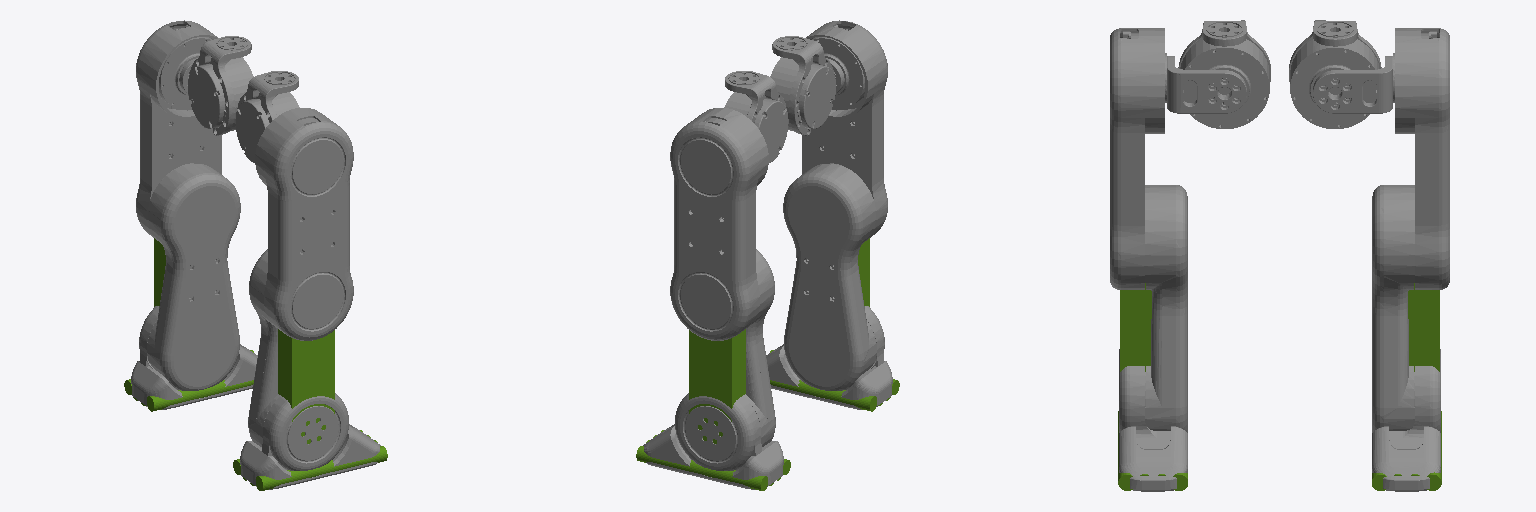
URDF robot description (nano_SDU):
<?xml version="1.0" encoding="utf-8"?>
<!-- This URDF was automatically created by SolidWorks to URDF Exporter! Originally created by Stephen Brawner (brawner@gmail.com) 
     Commit Version: 1.6.0-4-g7f85cfe  Build Version: 1.6.7995.38578
     For more information, please see http://wiki.ros.org/sw_urdf_exporter -->
<robot
  name="nano_SDU">
  <mujoco>
    <compiler meshdir="meshes/" balanceinertia="true" discardvisual="false" />
  </mujoco>
  <link
    name="base_link">
    <inertial>
      <origin
        xyz="0.00759147111974806 -0.0013875178091176 0.121198072259712"
        rpy="0 0 0" />
      <mass
        value="4.18623024" />
      <inertia
        ixx="0.03441290"
        ixy="0.00030350"
        ixz="-0.00039115"
        iyy="0.04852843"
        iyz="0.00028233"
        izz="0.03234871" />
    </inertial>
    <visual>
      <origin
        xyz="0 0 0"
        rpy="0 0 0" />
      <geometry>
        <mesh
          filename="./meshes/base_link.STL" />
      </geometry>
      <material
        name="">
        <color
          rgba="0.6 0.6 0.6 1" />
      </material>
    </visual>
    <collision>
      <origin
        xyz="0 0 0"
        rpy="0 0 0" />
      <geometry>
        <mesh
          filename="./meshes/base_link.STL" />
      </geometry>
    </collision>
  </link>
  <link
    name="right_leg_hip_yaw_link">
    <inertial>
      <origin
        xyz="-0.0112029810334063 -1.26073068986154E-05 -0.0496803709861635"
        rpy="0 0 0" />
      <mass
        value="0.46698526" />
      <inertia
        ixx="0.00038614"
        ixy="-0.00000003"
        ixz="-0.00000504"
        iyy="0.00028377"
        iyz="0.00000012"
        izz="0.00023518" />
    </inertial>
    <visual>
      <origin
        xyz="0 0 0"
        rpy="0 0 0" />
      <geometry>
        <mesh
          filename="./meshes/right_yaw_Link.STL" />
      </geometry>
      <material
        name="">
        <color
          rgba="0.6 0.6 0.6 1" />
      </material>
    </visual>
    <!-- <collision>
      <origin
        xyz="0 0 0"
        rpy="0 0 0" />
      <geometry>
        <mesh
          filename="./meshes/right_yaw_Link.STL" />
      </geometry>
    </collision> -->
  </link>
  <joint
    name="right_leg_hip_yaw_joint"
    type="revolute">
    <origin
      xyz="0.0028103 -0.047978 0.1165"
      rpy="0 0 0" />
    <parent
      link="base_link" />
    <child
      link="right_leg_hip_yaw_link" />
    <axis
      xyz="0 0 1" />
      <limit lower="-0.66" upper="0.66" effort="12" velocity="20" />
  </joint>
  <link
    name="right_leg_hip_roll_link">
    <inertial>
      <origin
        xyz="-0.00586696969608841 -0.0285890137138216 -4.46831460720887E-12"
        rpy="0 0 0" />
      <mass
        value="0.05799207" />
      <inertia
        ixx="0.00003312"
        ixy="-0.00000962"
        ixz="0.00000000"
        iyy="0.00001897"
        iyz="0.00000000"
        izz="0.00003594" />
    </inertial>
    <visual>
      <origin
        xyz="0 0 0"
        rpy="0 0 0" />
      <geometry>
        <mesh
          filename="./meshes/right_roll_Link.STL" />
      </geometry>
      <material
        name="">
        <color
          rgba="0.6 0.6 0.6 1" />
      </material>
    </visual>
    <!-- <collision>
      <origin
        xyz="0 0 0"
        rpy="0 0 0" />
      <geometry>
        <mesh
          filename="./meshes/right_roll_Link.STL" />
      </geometry>
    </collision> -->
  </link>
  <joint
    name="right_leg_hip_roll_joint"
    type="revolute">
    <origin
      xyz="0.0115 0 -0.0525"
      rpy="0 0 0" />
    <parent
      link="right_leg_hip_yaw_link" />
    <child
      link="right_leg_hip_roll_link" />
    <axis
      xyz="1 0 0" />
      <limit lower="-0.57" upper="0.57" effort="20" velocity="20" />
  </joint>
  <link
    name="right_leg_hip_pitch_link">
    <inertial>
      <origin
        xyz="8.66998954478365E-05 -0.0245252069088163 -0.0741302379267229"
        rpy="0 0 0" />
      <mass
        value="0.99471607" />
      <inertia
        ixx="0.00571142"
        ixy="0.00000057"
        ixz="-0.00000165"
        iyy="0.00596913"
        iyz="-0.00001437"
        izz="0.00057806" />
    </inertial>
    <visual>
      <origin
        xyz="0 0 0"
        rpy="0 0 0" />
      <geometry>
        <mesh
          filename="./meshes/right_hip_pitch_Link.STL" />
      </geometry>
      <material
        name="">
        <color
          rgba="0.6 0.6 0.6 1" />
      </material>
    </visual>
    <!-- <collision>
      <origin
        xyz="0 0 0"
        rpy="0 0 0" />
      <geometry>
        <mesh
          filename="./meshes/right_hip_pitch_Link.STL" />
      </geometry>
    </collision> -->
  </link>
  <joint
    name="right_leg_hip_pitch_joint"
    type="revolute">
    <origin
      xyz="-0.025 -0.05 0"
      rpy="0 0 0" />
    <parent
      link="right_leg_hip_roll_link" />
    <child
      link="right_leg_hip_pitch_link" />
    <axis
      xyz="0 1 0" />
      <limit lower="-1.57" upper="1.57" effort="20" velocity="20" />
  </joint>
  <link
    name="right_leg_knee_pitch_link">
    <inertial>
      <origin
        xyz="0.00331013516435387 -0.00696185236889806 -0.135287753281137"
        rpy="0 0 0" />
      <mass
        value="0.80917324" />
      <inertia
        ixx="0.00247043"
        ixy="0.00001064"
        ixz="0.00011731"
        iyy="0.00286612"
        iyz="-0.00021975"
        izz="0.00073383" />
    </inertial>
    <visual>
      <origin
        xyz="0 0 0"
        rpy="0 0 0" />
      <geometry>
        <mesh
          filename="./meshes/right_knee_Link.STL" />
      </geometry>
      <material
        name="">
        <color
          rgba="0.6 0.6 0.6 1" />
      </material>
    </visual>
    <collision>
			<origin xyz="0 -0.016 -0.08" rpy="0 0 0" />
			<geometry>
				<box size="0.05 0.05 0.18" />
			</geometry>
		</collision>
    <visual>
      <origin xyz="0 -0.016 -0.08" rpy="0 0 0" />
      <geometry>
        <box size="0.05 0.05 0.18" />
      </geometry>
      <material name="">
        <color rgba="0.4 0.6 0.15 1" />
      </material>
    </visual>
  </link>
  <joint
    name="right_leg_knee_pitch_joint"
    type="revolute">
    <origin
      xyz="0 0 -0.15"
      rpy="0 0 0" />
    <parent
      link="right_leg_hip_pitch_link" />
    <child
      link="right_leg_knee_pitch_link" />
    <axis
      xyz="0 1 0" />
      <limit lower="-2.57" upper="2.57" effort="20" velocity="20" />
  </joint>
  <link
    name="right_leg_ankle_pitch_link">
    <inertial>
      <origin
        xyz="0.0136151133931523 0.0137831475450504 -0.0329418942953968"
        rpy="0 0 0" />
      <mass
        value="0.15400000" />
      <inertia
        ixx="0.00012169"
        ixy="-0.00001236"
        ixz="0.00001729"
        iyy="0.00033966"
        iyz="0.00002400"
        izz="0.00031451" />
    </inertial>
    <visual>
      <origin
        xyz="0 0 0"
        rpy="0 0 0" />
      <geometry>
        <mesh
          filename="./meshes/right_leg_pitch_Link.STL" />
      </geometry>
      <material
        name="">
        <color
          rgba="0.6 0.6 0.6 1" />
      </material>
    </visual>
    <collision>
			<origin xyz="0.0135 0.042 -0.048" rpy="0 -1.5708 0" />
			<geometry>
				<cylinder radius="0.008" length="0.145" />
			</geometry>
		</collision>
    <visual>
      <origin xyz="0.0135 0.042 -0.048" rpy="0 -1.5708 0" />
      <geometry>
        <cylinder radius="0.008" length="0.145" />
      </geometry>
      <material name="">
        <color rgba="0.4 0.6 0.15 1" />
      </material>
    </visual>
    <collision>
			<origin xyz="0.0135 0.027 -0.048" rpy="0 -1.5708 0" />
			<geometry>
				<cylinder radius="0.008" length="0.145" />
			</geometry>
		</collision>
    <visual>
      <origin xyz="0.0135 0.027 -0.048" rpy="0 -1.5708 0" />
      <geometry>
        <cylinder radius="0.008" length="0.145" />
      </geometry>
      <material name="">
        <color rgba="0.4 0.6 0.15 1" />
      </material>
    </visual>
    <collision>
			<origin xyz="0.0135 0.012 -0.048" rpy="0 -1.5708 0" />
			<geometry>
				<cylinder radius="0.008" length="0.145" />
			</geometry>
		</collision>
    <visual>
      <origin xyz="0.0135 0.012 -0.048" rpy="0 -1.5708 0" />
      <geometry>
        <cylinder radius="0.008" length="0.145" />
      </geometry>
      <material name="">
        <color rgba="0.4 0.6 0.15 1" />
      </material>
    </visual>
    <collision>
			<origin xyz="0.0135 -0.003 -0.048" rpy="0 -1.5708 0" />
			<geometry>
				<cylinder radius="0.008" length="0.145" />
			</geometry>
		</collision>
    <visual>
      <origin xyz="0.0135 -0.003 -0.048" rpy="0 -1.5708 0" />
      <geometry>
        <cylinder radius="0.008" length="0.145" />
      </geometry>
      <material name="">
        <color rgba="0.4 0.6 0.15 1" />
      </material>
    </visual>
  </link>
  <joint
    name="right_leg_ankle_pitch_joint"
    type="revolute">
    <origin
      xyz="0 -0.0315 -0.15"
      rpy="0 0 0" />
    <parent
      link="right_leg_knee_pitch_link" />
    <child
      link="right_leg_ankle_pitch_link" />
    <axis
      xyz="0 1 0" />
      <limit lower="-0.8" upper="0.8" effort="20" velocity="20" />
  </joint>
  <link
    name="left_leg_hip_yaw_link">
    <inertial>
      <origin
        xyz="-0.0117186755301163 9.12231033247529E-06 -0.0469314362099253"
        rpy="0 0 0" />
      <mass
        value="0.46698513" />
      <inertia
        ixx="0.00038614"
        ixy="0.00000003"
        ixz="-0.00000504"
        iyy="0.00028377"
        iyz="-0.00000012"
        izz="0.00023518" />
    </inertial>
    <visual>
      <origin
        xyz="0 0 0"
        rpy="0 0 0" />
      <geometry>
        <mesh
          filename="./meshes/left_yaw_Link.STL" />
      </geometry>
      <material
        name="">
        <color
          rgba="0.6 0.6 0.6 1" />
      </material>
    </visual>
  </link>
  <joint
    name="left_leg_hip_yaw_joint"
    type="revolute">
    <origin
      xyz="0.0028103 0.048022 0.1165"
      rpy="0 0 0" />
    <parent
      link="base_link" />
    <child
      link="left_leg_hip_yaw_link" />
    <axis
      xyz="0 0 1" />
      <limit lower="-0.66" upper="0.66" effort="12" velocity="20" />
  </joint>
  <link
    name="left_leg_hip_roll_link">
    <inertial>
      <origin
        xyz="-0.00586696969608838 0.0285890137138216 8.95010454637912E-12"
        rpy="0 0 0" />
      <mass
        value="0.05799207" />
      <inertia
        ixx="0.00003312"
        ixy="0.00000962"
        ixz="0.00000000"
        iyy="0.00001897"
        iyz="0.00000000"
        izz="0.00003594" />
    </inertial>
    <visual>
      <origin
        xyz="0 0 0"
        rpy="0 0 0" />
      <geometry>
        <mesh
          filename="./meshes/left_roll_Link.STL" />
      </geometry>
      <material
        name="">
        <color
          rgba="0.6 0.6 0.6 1" />
      </material>
    </visual>

  </link>
  <joint
    name="left_leg_hip_roll_joint"
    type="revolute">
    <origin
      xyz="0.0115 0 -0.0525"
      rpy="0 0 0" />
    <parent
      link="left_leg_hip_yaw_link" />
    <child
      link="left_leg_hip_roll_link" />
    <axis
      xyz="1 0 0" />
      <limit lower="-0.57" upper="0.57" effort="20" velocity="20" />
  </joint>
  <link
    name="left_leg_hip_pitch_link">
    <inertial>
      <origin
        xyz="0.000157258164474136 0.0265118175288018 -0.0733954872792109"
        rpy="0 0 0" />
      <mass
        value="0.99471607" />
      <inertia
        ixx="0.00571142"
        ixy="-0.00000057"
        ixz="-0.00000165"
        iyy="0.00596913"
        iyz="0.00001437"
        izz="0.00057806" />
    </inertial>
    <visual>
      <origin
        xyz="0 0 0"
        rpy="0 0 0" />
      <geometry>
        <mesh
          filename="./meshes/left_hip_pitch_Link.STL" />
      </geometry>
      <material
        name="">
        <color
          rgba="0.6 0.6 0.6 1" />
      </material>
    </visual>

  </link>
  <joint
    name="left_leg_hip_pitch_joint"
    type="revolute">
    <origin
      xyz="-0.025 0.05 0"
      rpy="0 0 0" />
    <parent
      link="left_leg_hip_roll_link" />
    <child
      link="left_leg_hip_pitch_link" />
    <axis
      xyz="0 1 0" />
      <limit lower="-1.57" upper="1.57" effort="20" velocity="20" />
  </joint>
  <link
    name="left_leg_knee_pitch_link">
    <inertial>
      <origin
        xyz="0.00331013516435387 0.00696185236889806 -0.135287753281137"
        rpy="0 0 0" />
      <mass
        value="0.80917324" />
      <inertia
        ixx="0.00247043"
        ixy="-0.00001064"
        ixz="0.00011731"
        iyy="0.00286612"
        iyz="0.00021975"
        izz="0.00073383" />
    </inertial>
    <visual>
      <origin
        xyz="0 0 0"
        rpy="0 0 0" />
      <geometry>
        <mesh
          filename="./meshes/left_knee_Link.STL" />
      </geometry>
      <material
        name="">
        <color
          rgba="0.6 0.6 0.6 1" />
      </material>
    </visual>
    <collision>
			<origin xyz="0 0.016 -0.08" rpy="0 0 0" />
			<geometry>
				<box size="0.05 0.05 0.18" />
			</geometry>
		</collision>
    <visual>
      <origin xyz="0 0.016 -0.08" rpy="0 0 0" />
      <geometry>
        <box size="0.05 0.05 0.18" />
      </geometry>
      <material name="">
        <color rgba="0.4 0.6 0.15 1" />
      </material>
    </visual>
  </link>
  <joint
    name="left_leg_knee_pitch_joint"
    type="revolute">
    <origin
      xyz="0 0 -0.15"
      rpy="0 0 0" />
    <parent
      link="left_leg_hip_pitch_link" />
    <child
      link="left_leg_knee_pitch_link" />
    <axis
      xyz="0 1 0" />
      <limit lower="-2.57" upper="2.57" effort="20" velocity="20" />
  </joint>
  <link
    name="left_leg_ankle_pitch_link">
    <inertial>
      <origin
        xyz="0.0136150143330126 -0.0137831781527228 -0.032941866975697"
        rpy="0 0 0" />
      <mass
        value="0.15400000" />
      <inertia
        ixx="0.00012169"
        ixy="0.00001236"
        ixz="0.00001729"
        iyy="0.00033966"
        iyz="-0.00002400"
        izz="0.00031451" />
    </inertial>
    <visual>
      <origin
        xyz="0 0 0"
        rpy="0 0 0" />
      <geometry>
        <mesh
          filename="./meshes/left_leg_pitch_Link.STL" />
      </geometry>
      <material
        name="">
        <color
          rgba="0.6 0.6 0.6 1" />
      </material>
    </visual>
    <collision>
			<origin xyz="0.0135 -0.042 -0.048" rpy="0 -1.5708 0" />
			<geometry>
				<cylinder radius="0.008" length="0.145" />
			</geometry>
		</collision>
    <visual>
      <origin xyz="0.0135 -0.042 -0.048" rpy="0 -1.5708 0" />
      <geometry>
        <cylinder radius="0.008" length="0.145" />
      </geometry>
      <material name="">
        <color rgba="0.4 0.6 0.15 1" />
      </material>
    </visual>
    <collision>
			<origin xyz="0.0135 -0.027 -0.048" rpy="0 -1.5708 0" />
			<geometry>
				<cylinder radius="0.008" length="0.145" />
			</geometry>
		</collision>
    <visual>
      <origin xyz="0.0135 -0.027 -0.048" rpy="0 -1.5708 0" />
      <geometry>
        <cylinder radius="0.008" length="0.145" />
      </geometry>
      <material name="">
        <color rgba="0.4 0.6 0.15 1" />
      </material>
    </visual>
    <collision>
			<origin xyz="0.0135 -0.012 -0.048" rpy="0 -1.5708 0" />
			<geometry>
				<cylinder radius="0.008" length="0.145" />
			</geometry>
		</collision>
    <visual>
      <origin xyz="0.0135 -0.012 -0.048" rpy="0 -1.5708 0" />
      <geometry>
        <cylinder radius="0.008" length="0.145" />
      </geometry>
      <material name="">
        <color rgba="0.4 0.6 0.15 1" />
      </material>
    </visual>
    <collision>
			<origin xyz="0.0135 0.003 -0.048" rpy="0 -1.5708 0" />
			<geometry>
				<cylinder radius="0.008" length="0.145" />
			</geometry>
		</collision>
    <visual>
      <origin xyz="0.0135 0.003 -0.048" rpy="0 -1.5708 0" />
      <geometry>
        <cylinder radius="0.008" length="0.145" />
      </geometry>
      <material name="">
        <color rgba="0.4 0.6 0.15 1" />
      </material>
    </visual>
  </link>
  <joint
    name="left_leg_ankle_pitch_joint"
    type="revolute">
    <origin
      xyz="0 0.0315 -0.15"
      rpy="0 0 0" />
    <parent
      link="left_leg_knee_pitch_link" />
    <child
      link="left_leg_ankle_pitch_link" />
    <axis
      xyz="0 1 0" />
      <limit lower="-0.8" upper="0.8" effort="20" velocity="20" />
  </joint>
</robot>

--- Render facts (derived) ---
3 views of the same robot in one strip: view 1: azimuth 30°, elevation 25°; view 2: azimuth 150°, elevation 25°; view 3: azimuth 270°, elevation 25° (orthographic).
Model nano_SDU with 11 links and 10 joints (10 revolute), rooted at base_link, posed all joints at 0.
Visible links, largest first — view 1: right_leg_hip_pitch_link, left_leg_knee_pitch_link, left_leg_hip_pitch_link, right_leg_ankle_pitch_link, right_leg_knee_pitch_link, left_leg_hip_yaw_link, left_leg_ankle_pitch_link, right_leg_hip_yaw_link; view 2: left_leg_hip_pitch_link, right_leg_knee_pitch_link, right_leg_hip_pitch_link, left_leg_ankle_pitch_link, left_leg_knee_pitch_link, right_leg_hip_yaw_link, right_leg_ankle_pitch_link, left_leg_hip_yaw_link; view 3: right_leg_knee_pitch_link, left_leg_knee_pitch_link, right_leg_hip_pitch_link, left_leg_hip_pitch_link, right_leg_ankle_pitch_link, left_leg_ankle_pitch_link, left_leg_hip_yaw_link, right_leg_hip_yaw_link, right_leg_hip_roll_link, left_leg_hip_roll_link.
Boxes of the visible links, x1,y1,x2,y2 form: right_leg_hip_pitch_link: (255,108,353,340); left_leg_knee_pitch_link: (147,164,240,390); left_leg_hip_pitch_link: (136,20,221,240); right_leg_ankle_pitch_link: (233,393,387,490); right_leg_knee_pitch_link: (248,249,334,446); left_leg_hip_yaw_link: (188,36,253,135); left_leg_ankle_pitch_link: (124,306,257,411); right_leg_hip_yaw_link: (235,71,299,162); left_leg_hip_pitch_link: (670,108,768,340); right_leg_knee_pitch_link: (783,164,876,390); right_leg_hip_pitch_link: (802,20,887,240); left_leg_ankle_pitch_link: (636,393,790,490); left_leg_knee_pitch_link: (689,249,775,446); right_leg_hip_yaw_link: (770,36,835,135); right_leg_ankle_pitch_link: (766,306,899,411); left_leg_hip_yaw_link: (724,71,788,162); right_leg_knee_pitch_link: (1120,185,1187,432); left_leg_knee_pitch_link: (1372,185,1439,432); right_leg_hip_pitch_link: (1110,28,1166,289); left_leg_hip_pitch_link: (1393,28,1449,289); right_leg_ankle_pitch_link: (1118,349,1187,491); left_leg_ankle_pitch_link: (1372,349,1441,491); left_leg_hip_yaw_link: (1289,20,1381,128); right_leg_hip_yaw_link: (1178,20,1270,128); right_leg_hip_roll_link: (1167,56,1246,113); left_leg_hip_roll_link: (1313,56,1392,113).
Bounding box of the posed robot: 0.1487 × 0.296 × 0.4097 m (x, y, z).
10 mesh visuals loaded from 11 distinct referenced files (10 binary STL); not drawn: 1 (reference not matched to a file when rendering).
